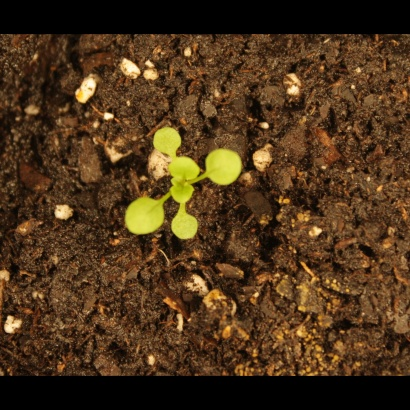leaf: (121, 194, 166, 237), (203, 146, 247, 187), (170, 207, 204, 244), (146, 125, 187, 155), (166, 182, 200, 208), (168, 156, 203, 181)
